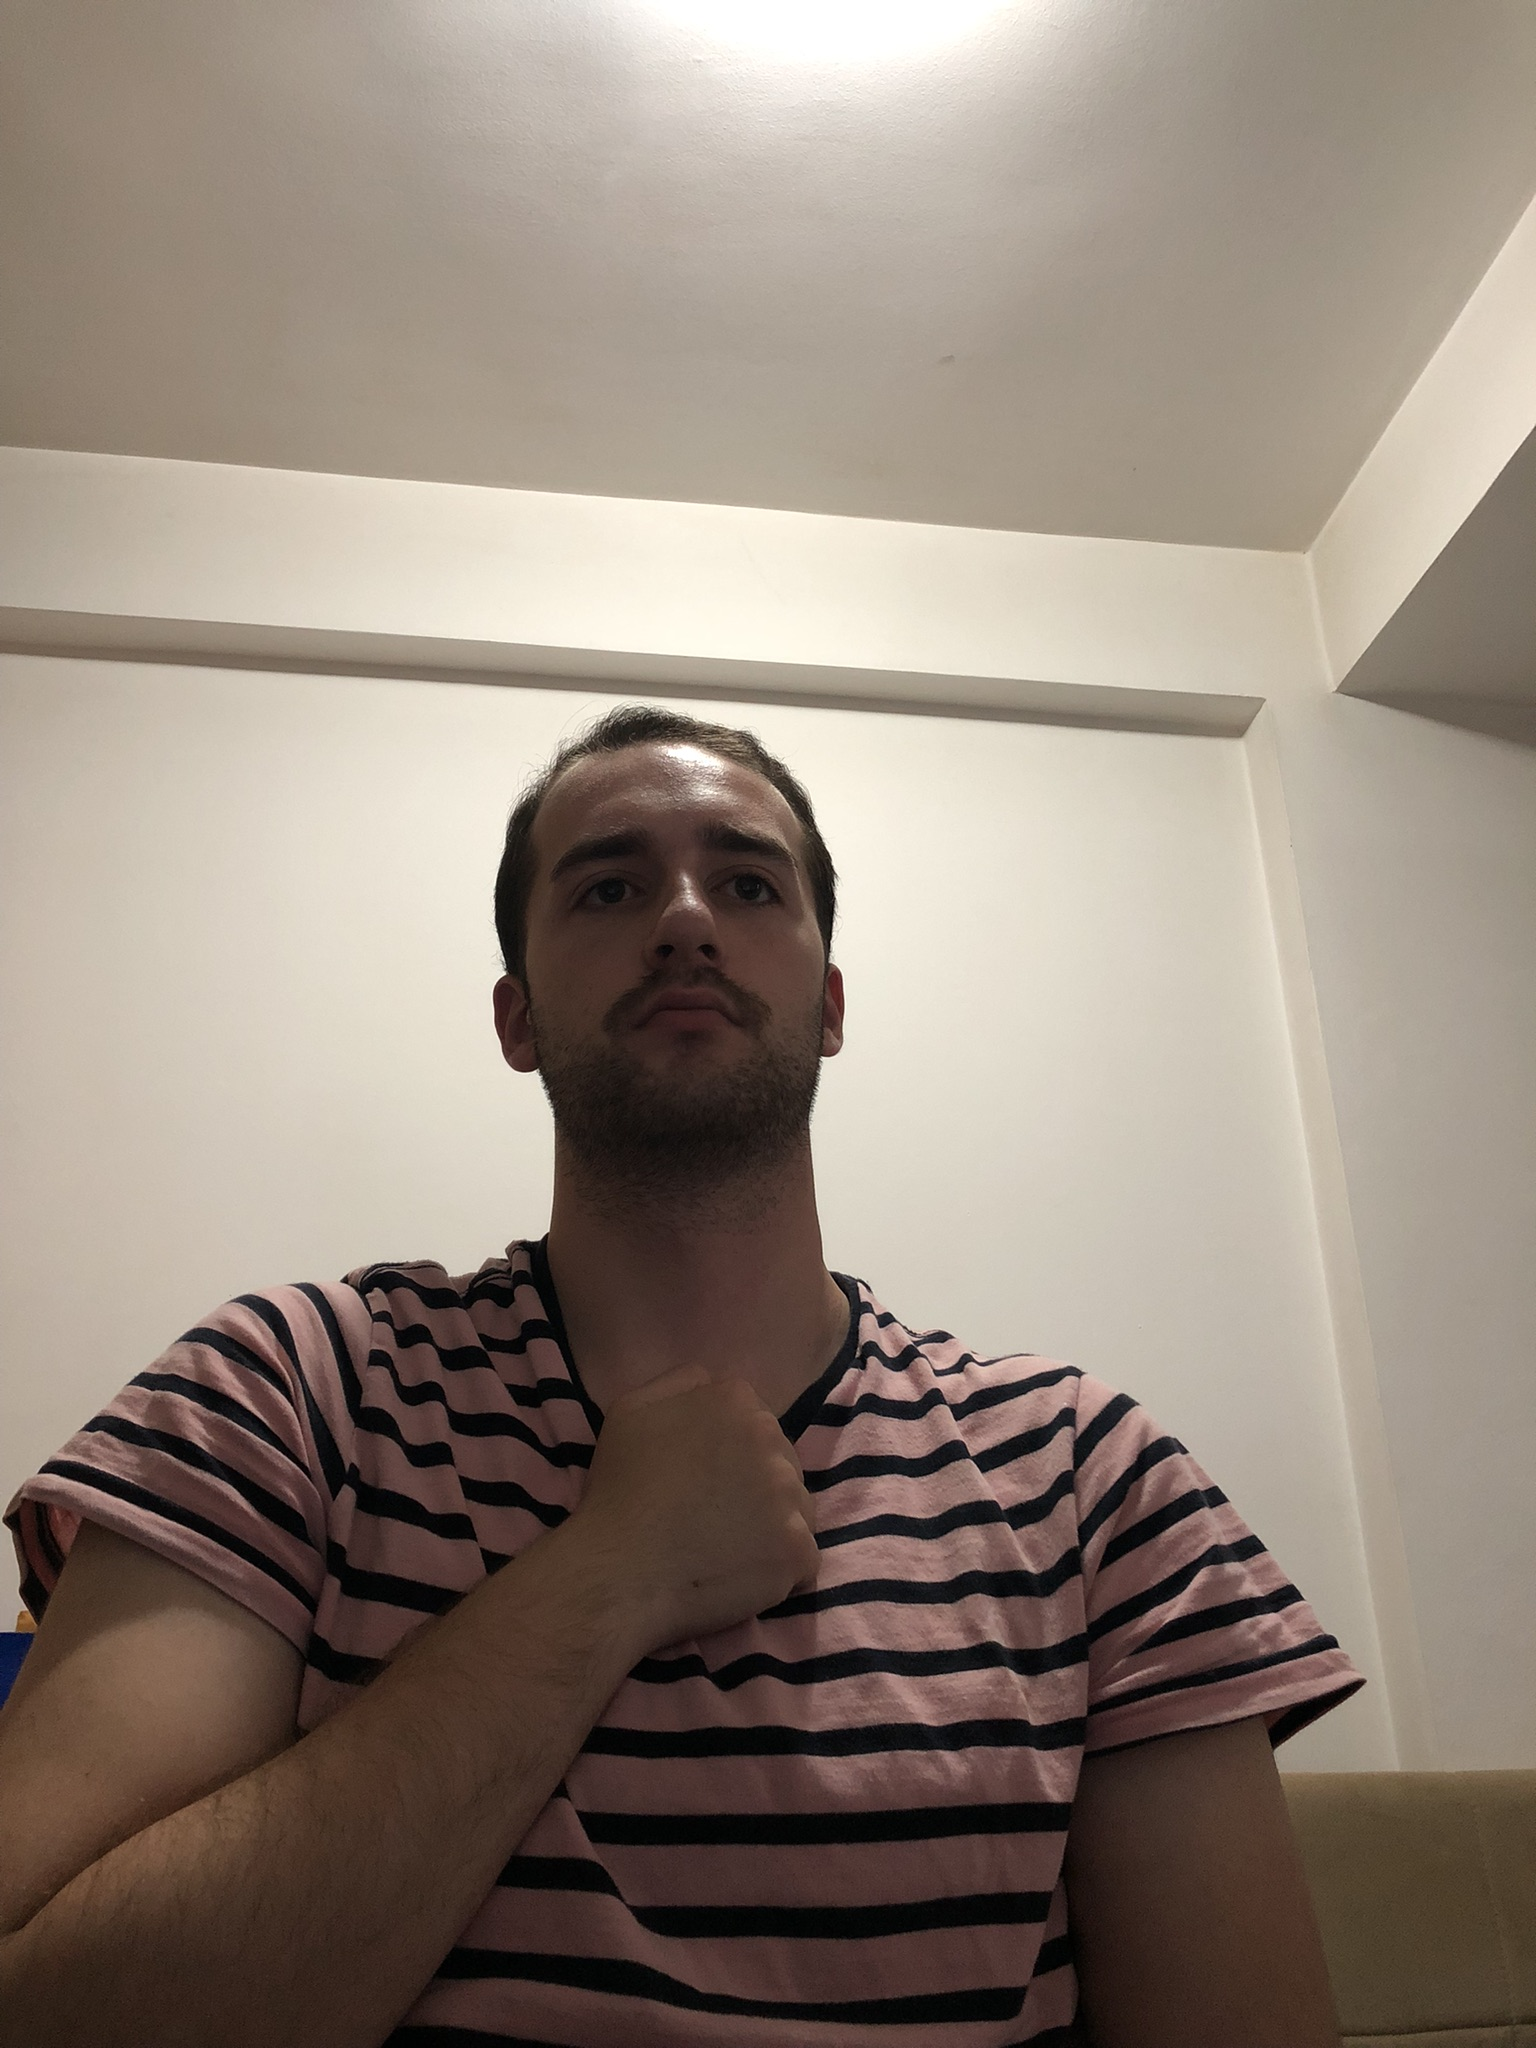Sorry: (6, 1361, 824, 2048)
